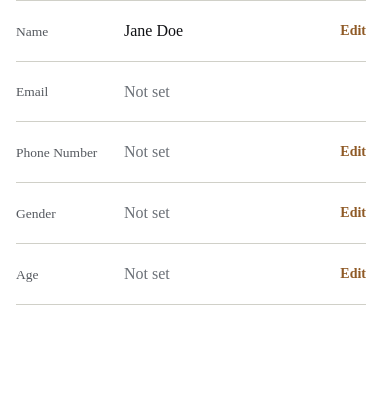
Test: ProfileScreen › editing the name › edits one row at a time: starting another puts the first back, unsaved
Click the button with test id "profile-edit-name". click: point(353, 31)
box: [340,9,366,53]
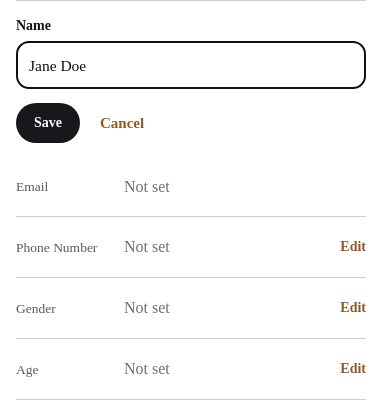
Replace the text in the field with test id "profile-name-input" with "Half typed". click: point(191, 65)
box: [16,41,366,89]
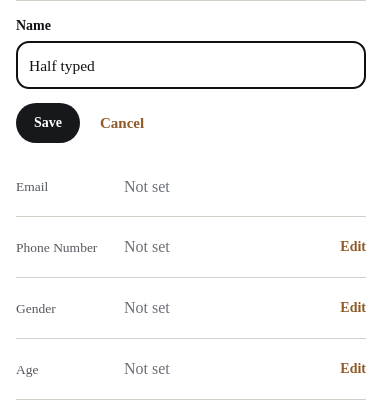
Click the button with test id "profile-edit-age". click: point(353, 369)
box: [340,347,366,391]
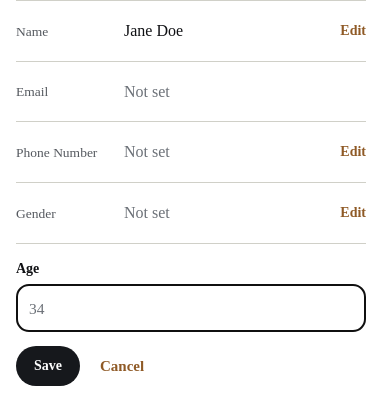
Check: the field with test id "profile-name-input" is gone
Check: the text with test id "profile-name" reads "Jane Doe", box [124,22,183,39]
Check: the field with test id "profile-age-input" is shown, box [16,284,366,332]
